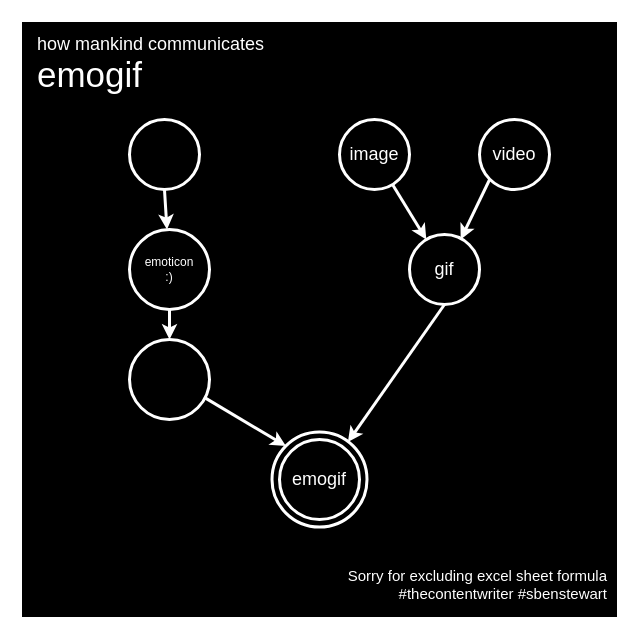
The diagram is 639 pixels wide and 639 high, and some of its shapes have lost their labels. The shapes that lost their labels are listed below. From the top down, each one's centre as x and y in pixels, then its label:
At (164,154): "text".
At (169,379): "EMOJI 😄".
